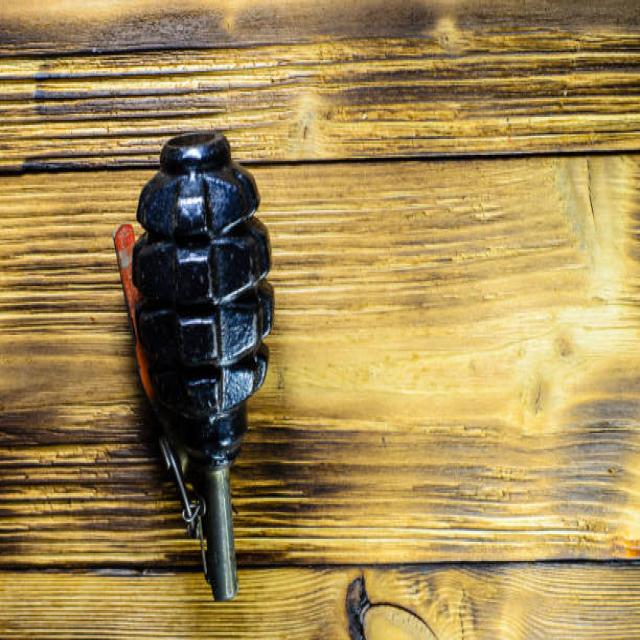grenade: (116, 131, 282, 607)
